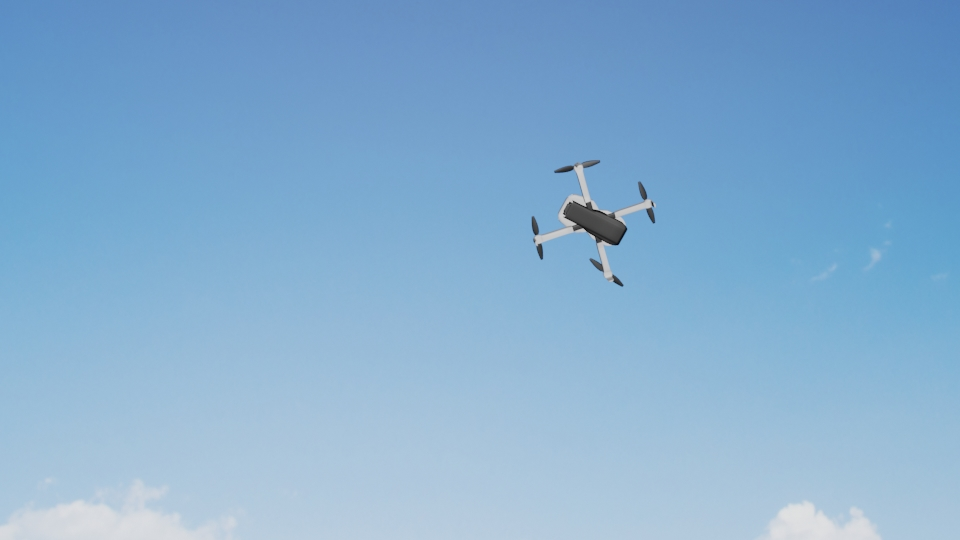drone: (528, 157, 657, 287)
